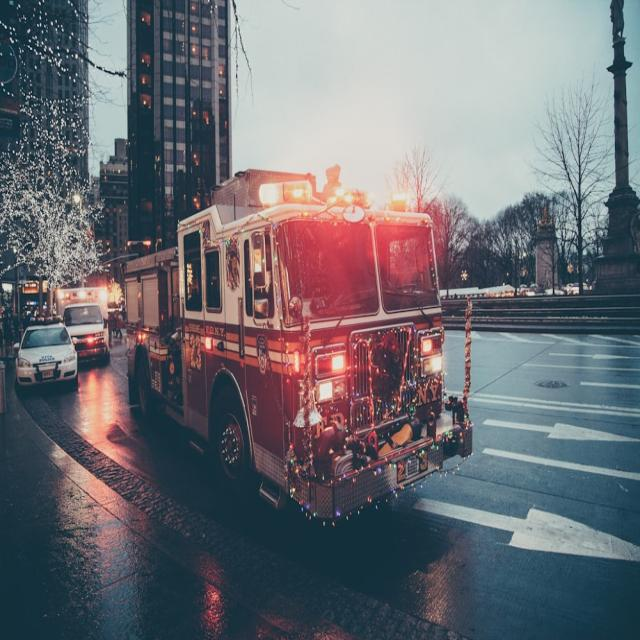car: (15, 319, 79, 389)
emergency: (125, 180, 472, 520)
truck: (55, 287, 110, 363)
